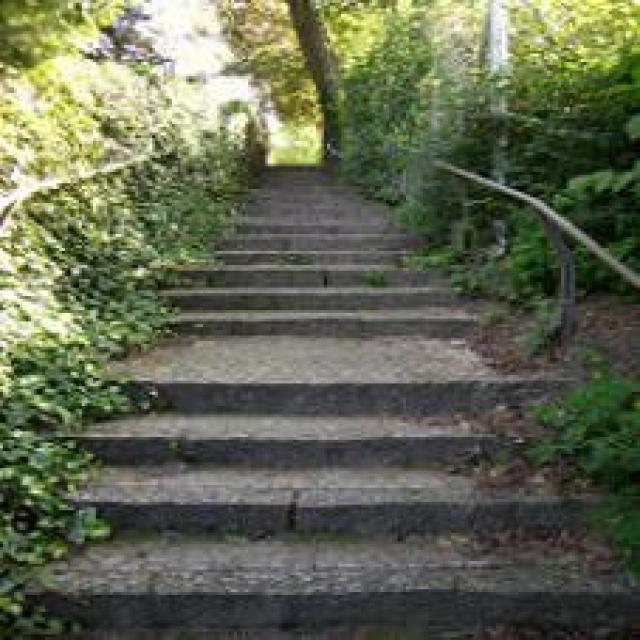upstair: (58, 334, 619, 613)
